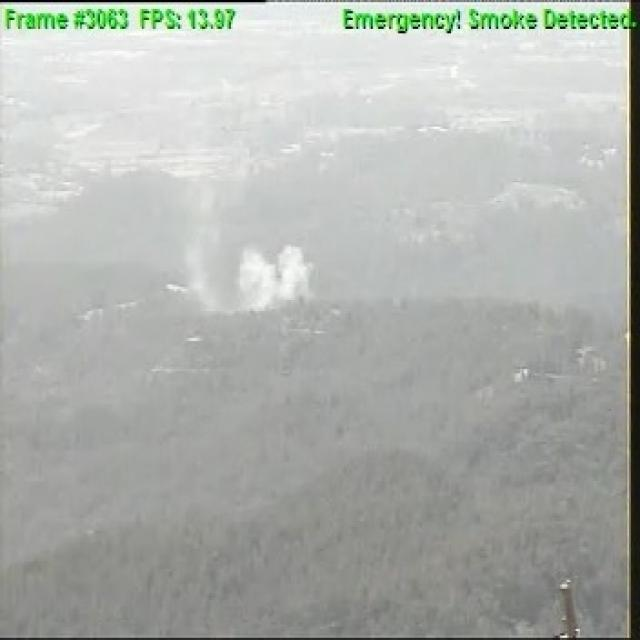smoke: (191, 233, 318, 315)
